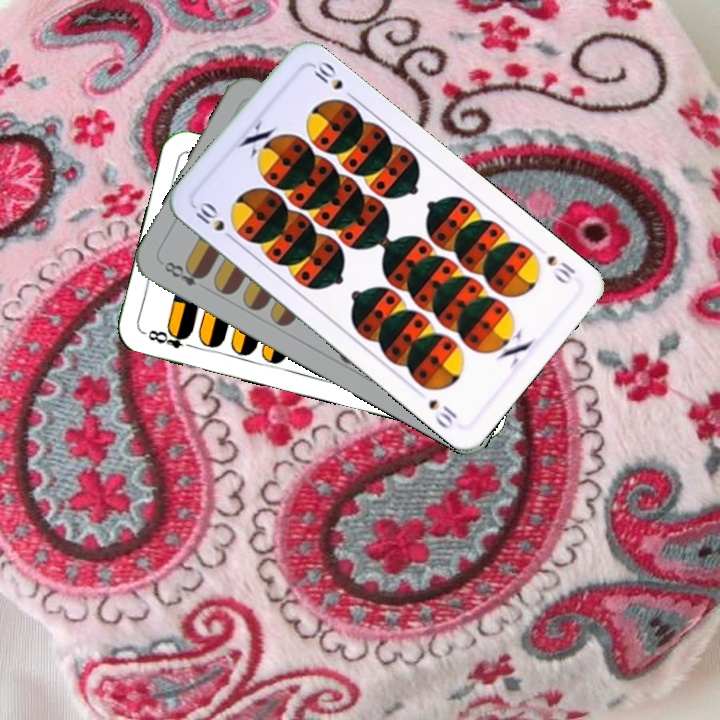E8: (160, 257, 208, 289), (139, 325, 198, 351)
S10: (190, 198, 239, 245), (543, 251, 579, 287)
